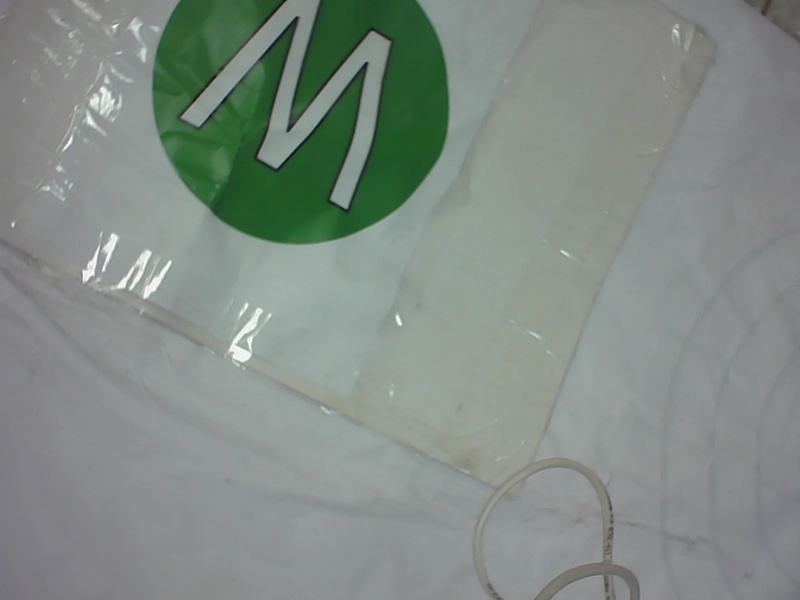areaB: (134, 1, 457, 247)
